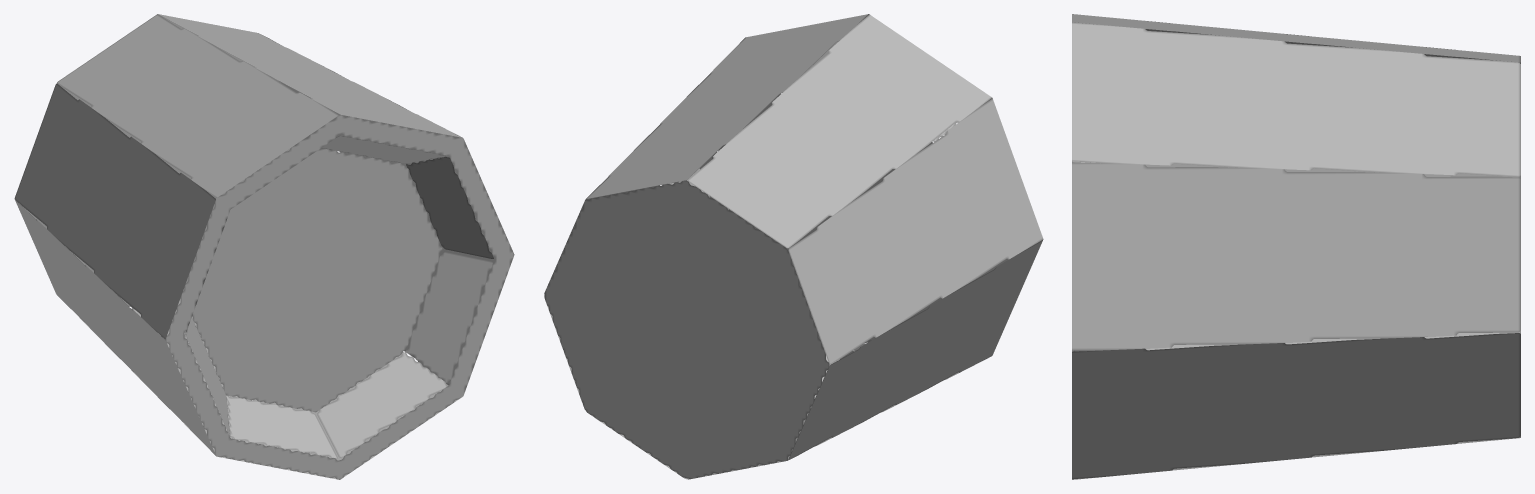
Rendered from pz_plant_native_34.obj.
3 views of the same model, side by side, from view 1: azimuth 30°, elevation 25°; view 2: azimuth 150°, elevation 25°; view 3: azimuth 270°, elevation 25° (orthographic). The views are drawn at different scales.
Visible parts, largest first — view 1: pot_soil_and_rim; view 2: pot_soil_and_rim; view 3: pot_soil_and_rim.
Boxes of the visible parts, x1=… form: pot_soil_and_rim: x1=14, y1=14, x2=514, y2=479; pot_soil_and_rim: x1=544, y1=14, x2=1043, y2=479; pot_soil_and_rim: x1=1072, y1=14, x2=1520, y2=479.
Bounding box in the file's own units: 0.21 × 0.21 × 0.19.
1 material, 1 textured.
